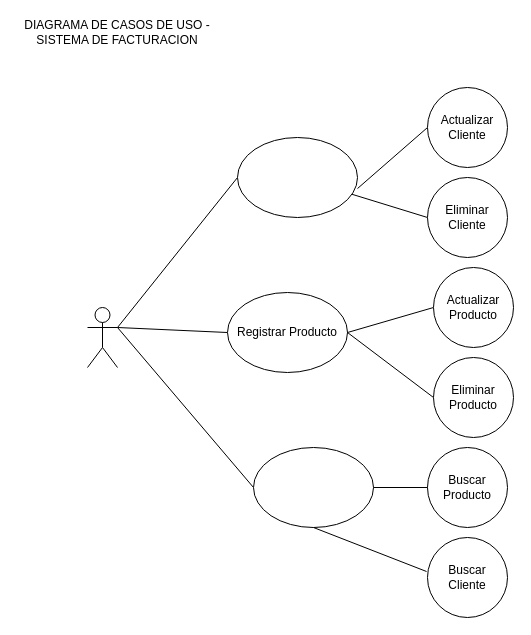
The diagram is 531 pixels wide and 635 high, and some of its shapes have lost their labels. Here are the shapes that lost their labels. From the top down, the centre of each, then its label:
At (x=297, y=177): "Registrar Cliente".
At (x=102, y=337): "Usuario".
At (x=313, y=487): "Registrar Factura".
